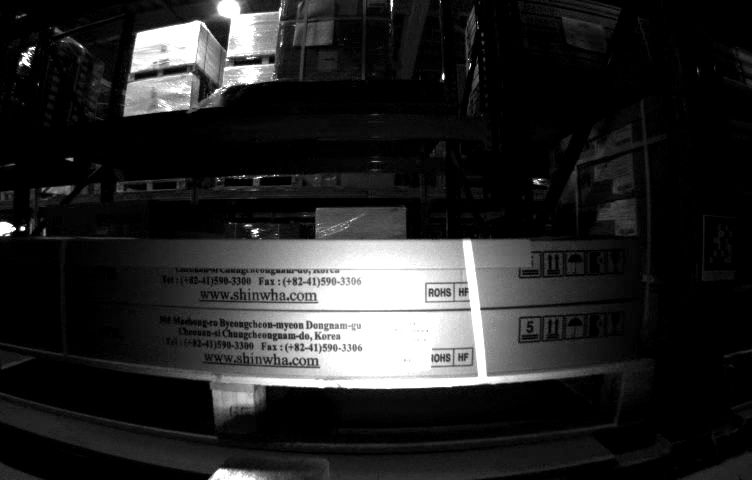True Barcode: (375, 314, 432, 368)
